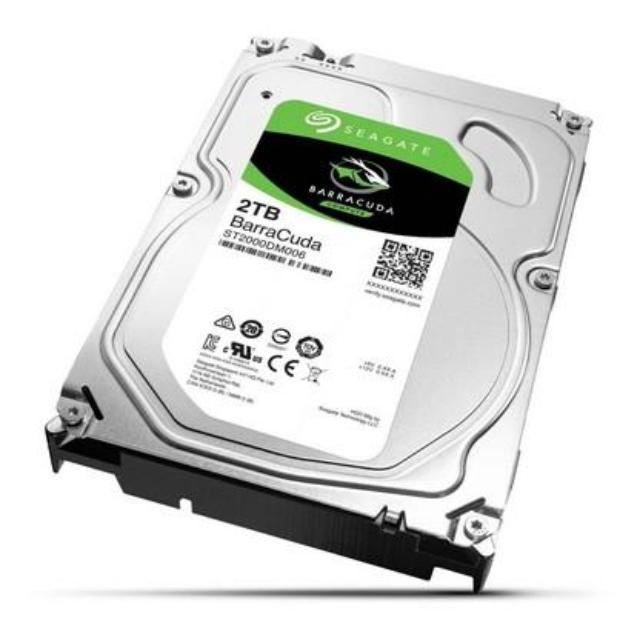DISK: (51, 43, 584, 588)
